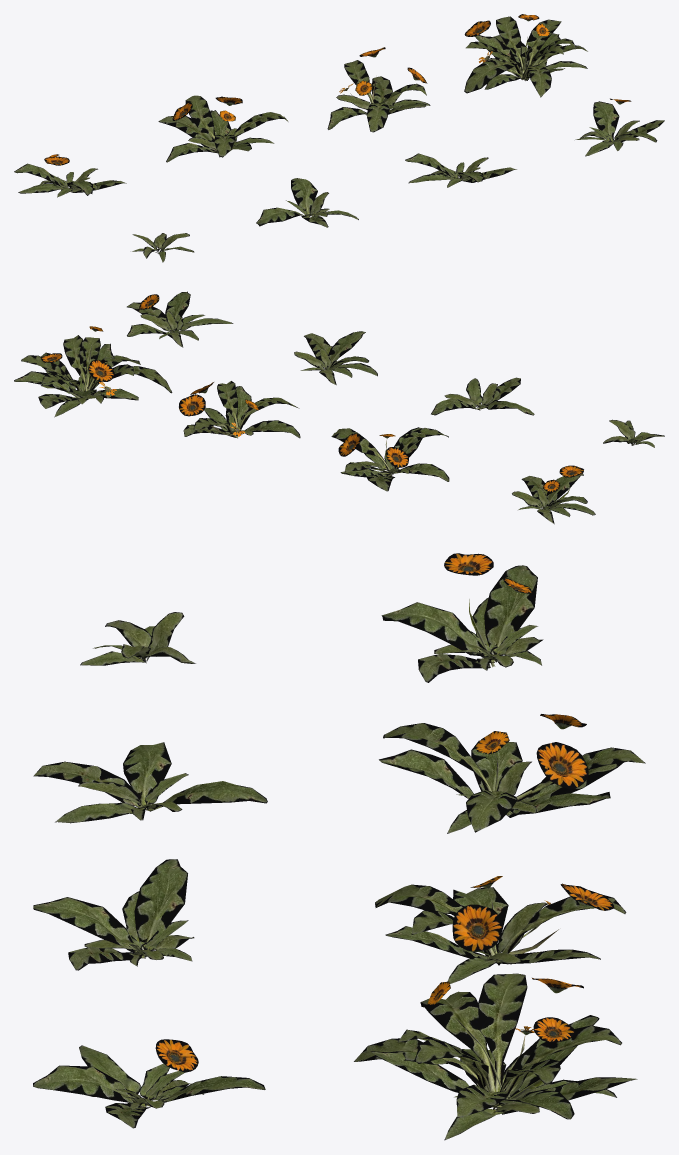
File: flower_gazania.glb
3 renders of one model, top to bottom at view 1: azimuth 30°, elevation 25°; view 2: azimuth 150°, elevation 25°; view 3: azimuth 270°, elevation 25°, orthographic. The views are drawn at different scales.
Parts seen in each view (by area): view 1: flower_gazania_h_LOD0, flower_gazania_f_LOD0, flower_gazania_g_LOD0, flower_gazania_d_LOD0, flower_gazania_b_LOD0, flower_gazania_e_LOD0, flower_gazania_c_LOD0, flower_gazania_a_LOD0; view 2: flower_gazania_h_LOD0, flower_gazania_f_LOD0, flower_gazania_g_LOD0, flower_gazania_d_LOD0, flower_gazania_e_LOD0, flower_gazania_c_LOD0, flower_gazania_b_LOD0, flower_gazania_a_LOD0; view 3: flower_gazania_h_LOD0, flower_gazania_f_LOD0, flower_gazania_g_LOD0, flower_gazania_e_LOD0, flower_gazania_c_LOD0, flower_gazania_d_LOD0, flower_gazania_b_LOD0, flower_gazania_a_LOD0.
Part boxes in pixels (<box>): flower_gazania_h_LOD0: <box>464,14,587,97</box>; flower_gazania_f_LOD0: <box>158,95,288,162</box>; flower_gazania_g_LOD0: <box>327,47,430,132</box>; flower_gazania_d_LOD0: <box>575,98,664,156</box>; flower_gazania_b_LOD0: <box>256,178,358,227</box>; flower_gazania_e_LOD0: <box>14,154,126,197</box>; flower_gazania_c_LOD0: <box>405,153,516,187</box>; flower_gazania_a_LOD0: <box>132,233,194,262</box>; flower_gazania_h_LOD0: <box>14,326,172,417</box>; flower_gazania_f_LOD0: <box>331,427,449,491</box>; flower_gazania_g_LOD0: <box>179,381,300,438</box>; flower_gazania_d_LOD0: <box>127,291,233,347</box>; flower_gazania_e_LOD0: <box>512,465,595,524</box>; flower_gazania_c_LOD0: <box>294,331,377,385</box>; flower_gazania_b_LOD0: <box>431,377,534,415</box>; flower_gazania_a_LOD0: <box>603,419,664,447</box>; flower_gazania_h_LOD0: <box>354,973,637,1140</box>; flower_gazania_f_LOD0: <box>379,714,645,833</box>; flower_gazania_g_LOD0: <box>375,876,626,983</box>; flower_gazania_e_LOD0: <box>381,553,543,682</box>; flower_gazania_c_LOD0: <box>33,859,194,970</box>; flower_gazania_d_LOD0: <box>33,1039,265,1128</box>; flower_gazania_b_LOD0: <box>33,742,267,823</box>; flower_gazania_a_LOD0: <box>80,612,195,665</box>.
Bounding box in the file's own units: 1.48 × 0.1653 × 0.7015.
Materials: 1 (1 with a texture image).
